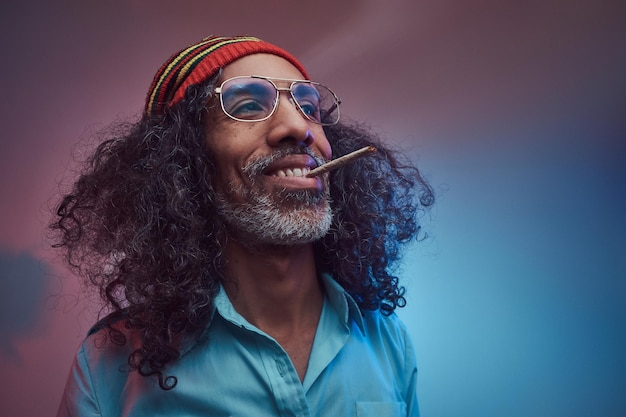cigarette: (302, 145, 378, 178)
